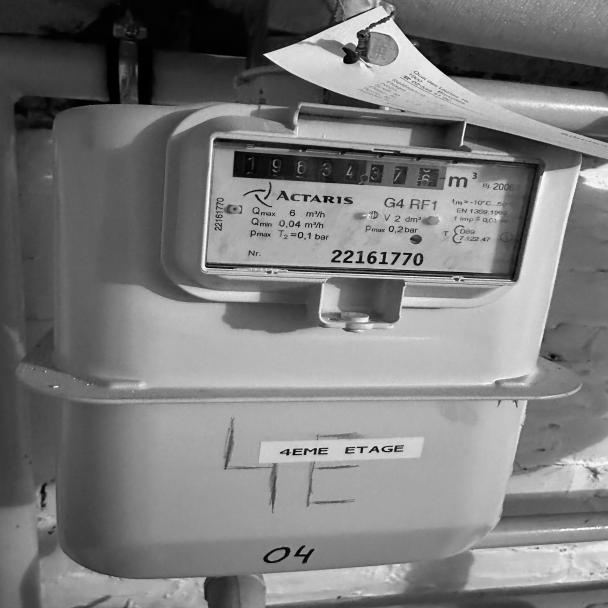1: (236, 150, 264, 182)
3: (365, 158, 389, 190), (319, 154, 343, 184)
4: (340, 156, 364, 185)
6: (412, 163, 448, 193), (292, 152, 320, 182)
7: (386, 162, 413, 190)
9: (262, 152, 294, 182)
cm: (366, 157, 454, 191)
counter: (228, 148, 366, 189)
